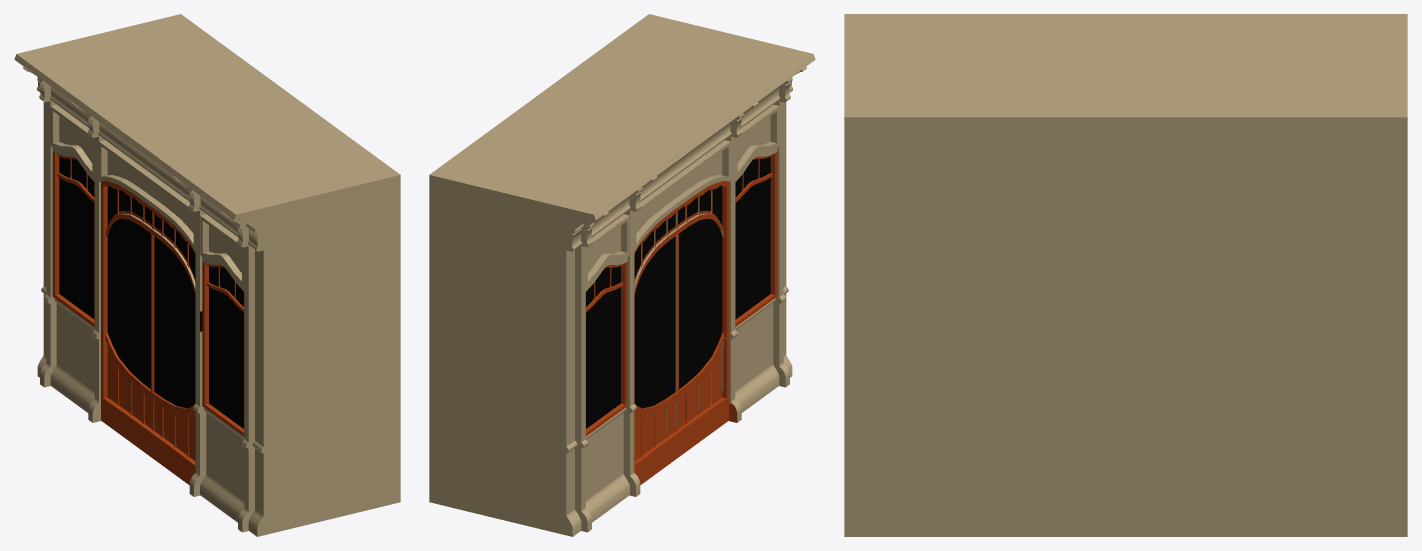
File: ClockShop_Test.fbx
The picture shows the model from 3 angles, left to right: view 1: azimuth 30°, elevation 25°; view 2: azimuth 150°, elevation 25°; view 3: azimuth 270°, elevation 25°; orthographic projection. The views are drawn at different scales.
Visible parts, largest first — view 1: ClockShopWall1; view 2: ClockShopWall1; view 3: ClockShopWall1.
Part boxes in pixels (bbox=[...]): ClockShopWall1: bbox=[14, 14, 400, 536]; ClockShopWall1: bbox=[429, 14, 815, 536]; ClockShopWall1: bbox=[844, 14, 1407, 536].
Bounding box in the file's own units: 62.95 × 118 × 144.
